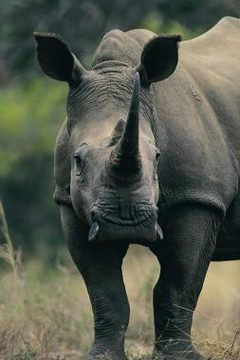rhinoceros: (36, 7, 240, 358)
